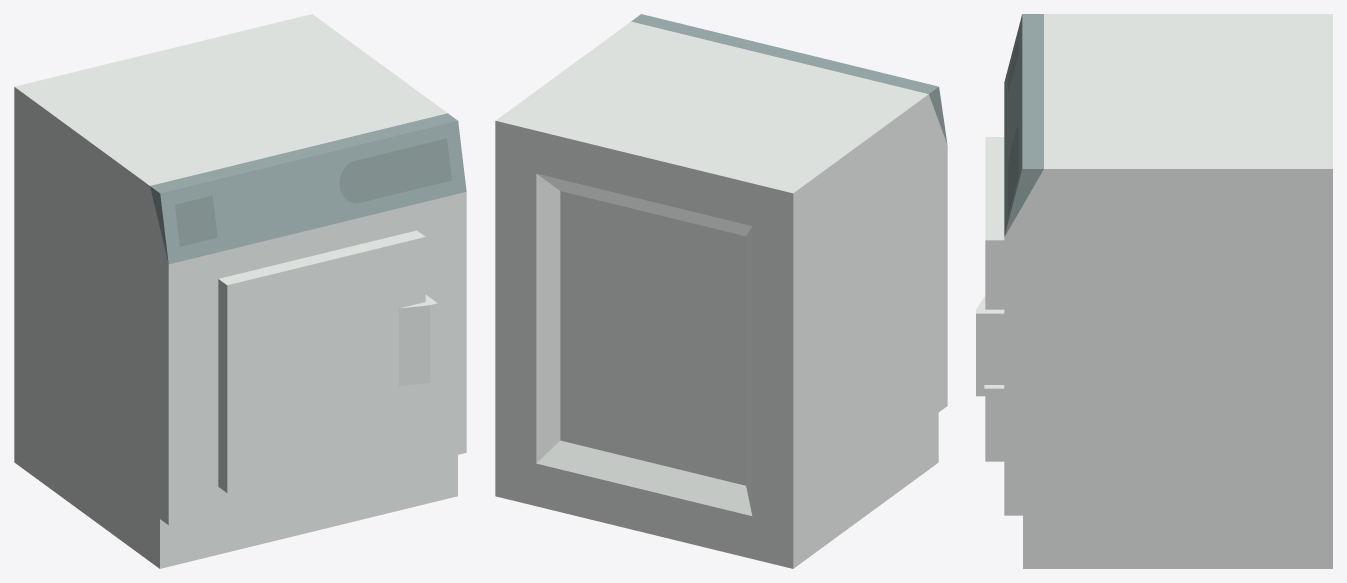
Rendered from dryer.glb.
3 views of the same model, side by side, from view 1: azimuth 30°, elevation 25°; view 2: azimuth 150°, elevation 25°; view 3: azimuth 270°, elevation 25° (orthographic). The views are drawn at different scales.
Visible parts, largest first — view 1: dryer(Clone), dryerDoor; view 2: dryer(Clone); view 3: dryer(Clone), dryerDoor.
Part boxes in pixels (x1=…): dryer(Clone): x1=14, y1=14, x2=466, y2=568; dryerDoor: x1=218, y1=230, x2=437, y2=492; dryer(Clone): x1=495, y1=14, x2=947, y2=568; dryer(Clone): x1=1004, y1=14, x2=1332, y2=568; dryerDoor: x1=976, y1=137, x2=1004, y2=461.
Bounding box in the file's own units: 0.7917 × 0.9541 × 0.7714.
Materials: 3 (3 with a texture image).
